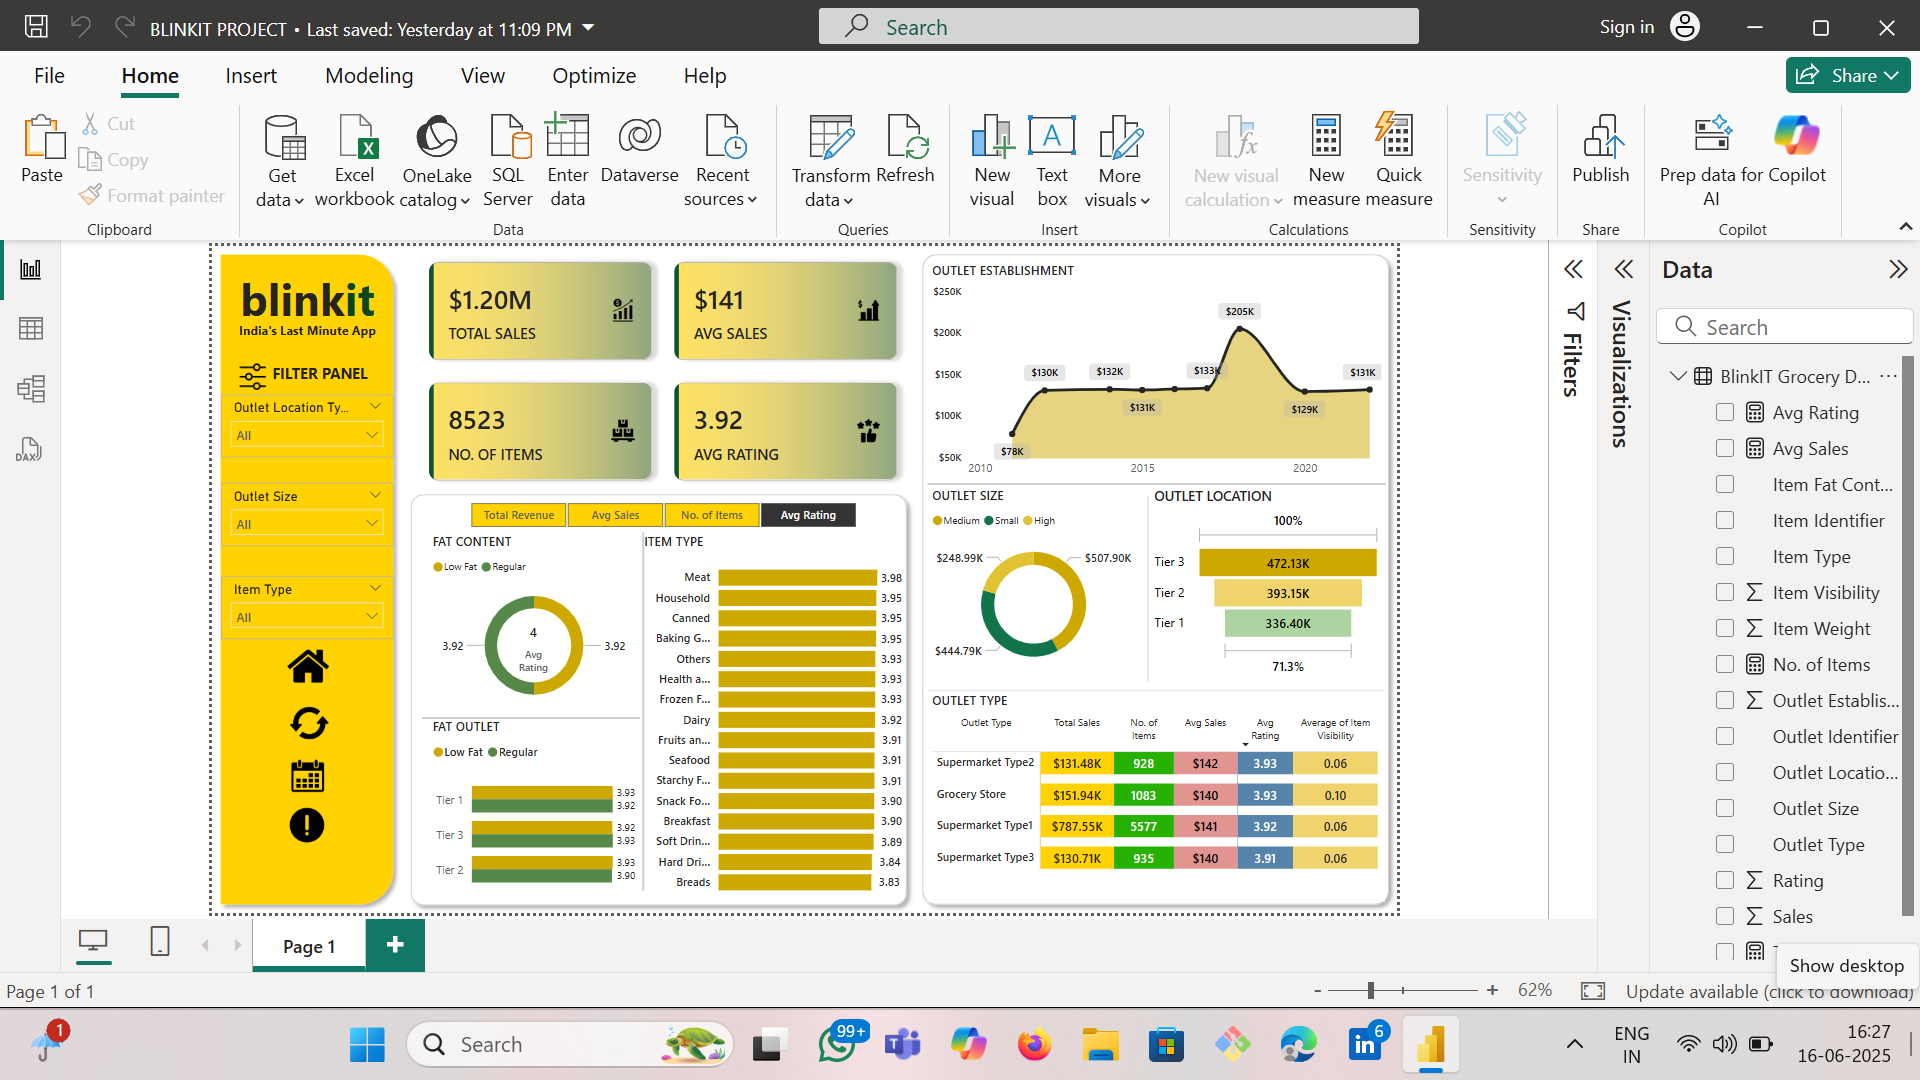

The page's visual inventory and layout, read from the dashboard file:
{"tool":"powerbi","page":{"name":"Page 1","canvas":[1280,720],"ordinal":0},"visuals":[{"type":"shape","box":[0,0,205,720],"z":0},{"type":"textbox","box":[10,18.3,186.7,75],"z":1000},{"type":"textbox","box":[10,76.7,186.7,31.7],"z":2000},{"type":"cardVisual","fields":{"Data":["BlinkIT Grocery Data.Total Revenue","BlinkIT Grocery Data.Avg Sales","BlinkIT Grocery Data.No. of Items","BlinkIT Grocery Data.Avg Rating"]},"box":[216.7,0,541.7,270],"z":3000},{"type":"shape","box":[205,258.3,553.3,461.7],"z":4000},{"type":"donutChart","title":"FAT CONTENT","fields":{"Y":["BlinkIT Grocery Data.Avg Rating"],"Category":["BlinkIT Grocery Data.Item Fat Content"]},"box":[233.3,310,228.3,198.3],"z":5000},{"type":"slicer","fields":{"Values":["Metrics.Metrics"]},"box":[254.2,270.4,464.7,38.9],"z":6000},{"type":"cardVisual","fields":{"Data":["BlinkIT Grocery Data.Avg Rating"]},"box":[305,390,85,76.7],"z":7000},{"type":"clusteredBarChart","title":"FAT OUTLET","fields":{"Y":["BlinkIT Grocery Data.Avg Rating"],"Category":["BlinkIT Grocery Data.Outlet Location Type"],"Series":["BlinkIT Grocery Data.Item Fat Content"]},"box":[233.3,508.3,228.3,200],"z":8000},{"type":"shape","box":[226.7,496.7,235,25],"z":9000},{"type":"shape","box":[461.5,309.3,8.1,387],"z":10000},{"type":"barChart","title":"ITEM TYPE","fields":{"Y":["BlinkIT Grocery Data.Avg Rating"],"Category":["BlinkIT Grocery Data.Item Type"]},"box":[461.5,309.3,288.2,399.9],"z":11000},{"type":"shape","box":[758.3,0,521.7,720],"z":12000},{"type":"lineChart","title":" OUTLET ESTABLISHMENT","fields":{"Category":["BlinkIT Grocery Data.Outlet Establishment Year"],"Y":["BlinkIT Grocery Data.Total Sales"]},"box":[771.7,16.7,495,241.7],"z":13000},{"type":"shape","box":[771.7,245,495,25],"z":14000},{"type":"donutChart","title":"OUTLET SIZE","fields":{"Y":["BlinkIT Grocery Data.Total Sales"],"Category":["BlinkIT Grocery Data.Outlet Size"]},"box":[771.7,258.3,228.3,210],"z":15000},{"type":"shape","box":[1000.7,270.4,19.4,199.2],"z":16000},{"type":"funnel","title":"OUTLET LOCATION","fields":{"Y":["Sum(BlinkIT Grocery Data.Sales)"],"Category":["BlinkIT Grocery Data.Outlet Location Type"]},"box":[1011.7,258.3,255,210],"z":17000},{"type":"shape","box":[772.4,464.7,493.9,30.8],"z":18000},{"type":"pivotTable","title":"OUTLET TYPE","fields":{"Rows":["BlinkIT Grocery Data.Outlet Type"],"Values":["BlinkIT Grocery Data.Total Sales","BlinkIT Grocery Data.No. of Items","BlinkIT Grocery Data.Avg Sales","BlinkIT Grocery Data.Avg Rating","Avg(BlinkIT Grocery Data.Item Visibility)"]},"box":[772.4,480.9,493.9,226.7],"z":19000},{"type":"slicer","fields":{"Values":["BlinkIT Grocery Data.Outlet Location Type"]},"box":[9.7,160.3,186.2,68],"z":20000},{"type":"slicer","fields":{"Values":["BlinkIT Grocery Data.Outlet Size"]},"box":[9.7,255.8,186.2,68],"z":21000},{"type":"slicer","fields":{"Values":["BlinkIT Grocery Data.Item Type"]},"box":[9.7,356.2,186.2,68],"z":22000},{"type":"textbox","box":[55.1,121.4,123.1,38.9],"z":23000},{"type":"image","box":[21,121.4,45.3,38.9],"z":24000},{"type":"image","box":[72.9,425.9,61.5,55.1],"z":25000},{"type":"image","box":[72.9,597.5,59.9,55.1],"z":26000},{"type":"image","box":[77.7,489,55.1,51.8],"z":27000},{"type":"image","box":[77.7,548.9,51.8,45.3],"z":28000}]}

Visuals, with their boxes on the page's 1280x720 design canvas (x1, y1, x2, y2). These are canvas units, not pixel positions in the 1920x1080 screenshot, which may show the page scaled, cropped or inside an application window:
shape: {"left": 0, "top": 0, "right": 205, "bottom": 720}
textbox: {"left": 10, "top": 18, "right": 197, "bottom": 93}
textbox: {"left": 10, "top": 77, "right": 197, "bottom": 108}
cardVisual - BlinkIT Grocery Data.Total Revenue x BlinkIT Grocery Data.Avg Sales: {"left": 217, "top": 0, "right": 758, "bottom": 270}
shape: {"left": 205, "top": 258, "right": 758, "bottom": 720}
"FAT CONTENT" donutChart: {"left": 233, "top": 310, "right": 462, "bottom": 508}
slicer - Metrics.Metrics: {"left": 254, "top": 270, "right": 719, "bottom": 309}
cardVisual - BlinkIT Grocery Data.Avg Rating: {"left": 305, "top": 390, "right": 390, "bottom": 467}
"FAT OUTLET" clusteredBarChart: {"left": 233, "top": 508, "right": 462, "bottom": 708}
shape: {"left": 227, "top": 497, "right": 462, "bottom": 522}
shape: {"left": 462, "top": 309, "right": 470, "bottom": 696}
"ITEM TYPE" barChart: {"left": 462, "top": 309, "right": 750, "bottom": 709}
shape: {"left": 758, "top": 0, "right": 1280, "bottom": 720}
" OUTLET ESTABLISHMENT" lineChart: {"left": 772, "top": 17, "right": 1267, "bottom": 258}
shape: {"left": 772, "top": 245, "right": 1267, "bottom": 270}
"OUTLET SIZE" donutChart: {"left": 772, "top": 258, "right": 1000, "bottom": 468}
shape: {"left": 1001, "top": 270, "right": 1020, "bottom": 470}
"OUTLET LOCATION" funnel: {"left": 1012, "top": 258, "right": 1267, "bottom": 468}
shape: {"left": 772, "top": 465, "right": 1266, "bottom": 496}
"OUTLET TYPE" pivotTable: {"left": 772, "top": 481, "right": 1266, "bottom": 708}
slicer - BlinkIT Grocery Data.Outlet Location Type: {"left": 10, "top": 160, "right": 196, "bottom": 228}
slicer - BlinkIT Grocery Data.Outlet Size: {"left": 10, "top": 256, "right": 196, "bottom": 324}
slicer - BlinkIT Grocery Data.Item Type: {"left": 10, "top": 356, "right": 196, "bottom": 424}
textbox: {"left": 55, "top": 121, "right": 178, "bottom": 160}
image: {"left": 21, "top": 121, "right": 66, "bottom": 160}
image: {"left": 73, "top": 426, "right": 134, "bottom": 481}
image: {"left": 73, "top": 598, "right": 133, "bottom": 653}
image: {"left": 78, "top": 489, "right": 133, "bottom": 541}
image: {"left": 78, "top": 549, "right": 130, "bottom": 594}
